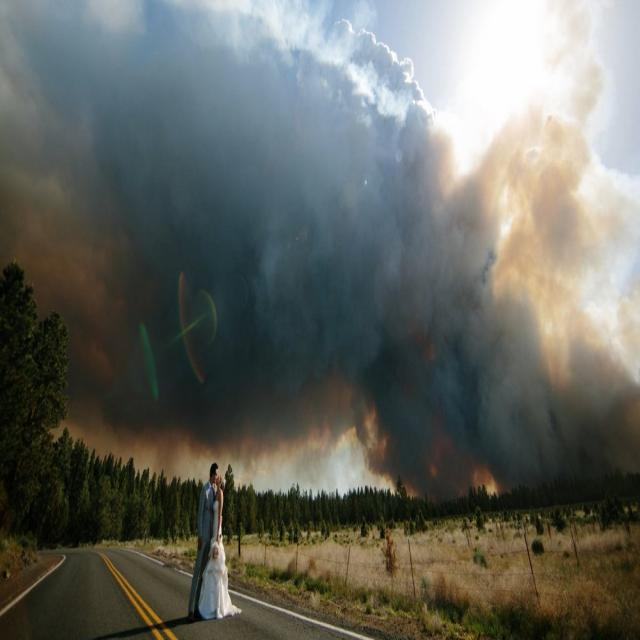Smoke: (72, 31, 618, 486)
